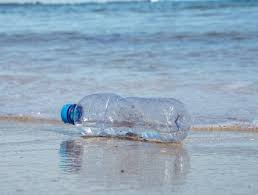plasticbottle: (58, 93, 191, 144)
